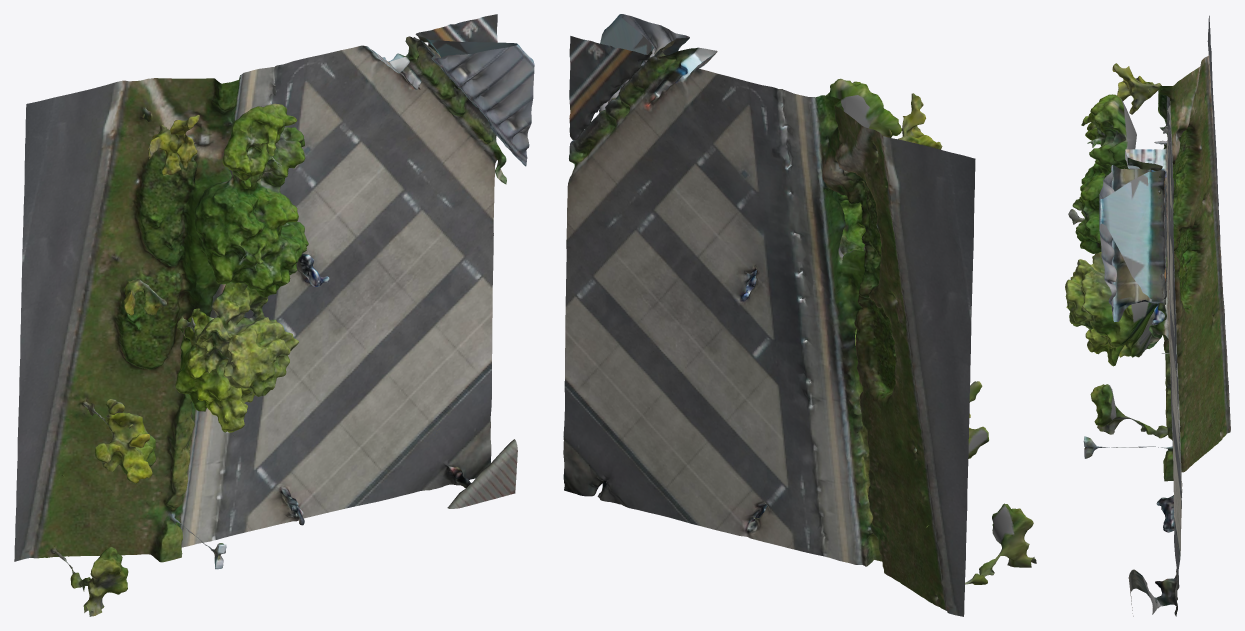
The model's file is Tile_+016_+020.fbx.
The picture shows the model from 3 angles, left to right: view 1: azimuth 30°, elevation 25°; view 2: azimuth 150°, elevation 25°; view 3: azimuth 270°, elevation 25°; orthographic projection. The views are drawn at different scales.
Visible parts, largest first — view 1: DefaultName; view 2: DefaultName; view 3: DefaultName.
Boxes of the visible parts, box(x1,y1,x2,y2) form: DefaultName: box(14, 14, 534, 616); DefaultName: box(563, 14, 1036, 616); DefaultName: box(1065, 15, 1230, 616).
Size of the model in its own units: 22.54 by 22.54 by 8.24.
